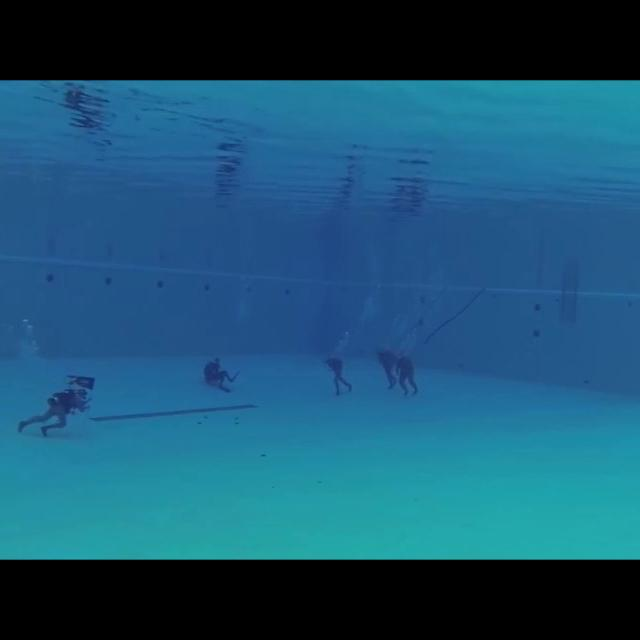human: (12, 369, 102, 442), (199, 351, 241, 399), (321, 346, 358, 399), (391, 349, 420, 398), (373, 344, 400, 396)
